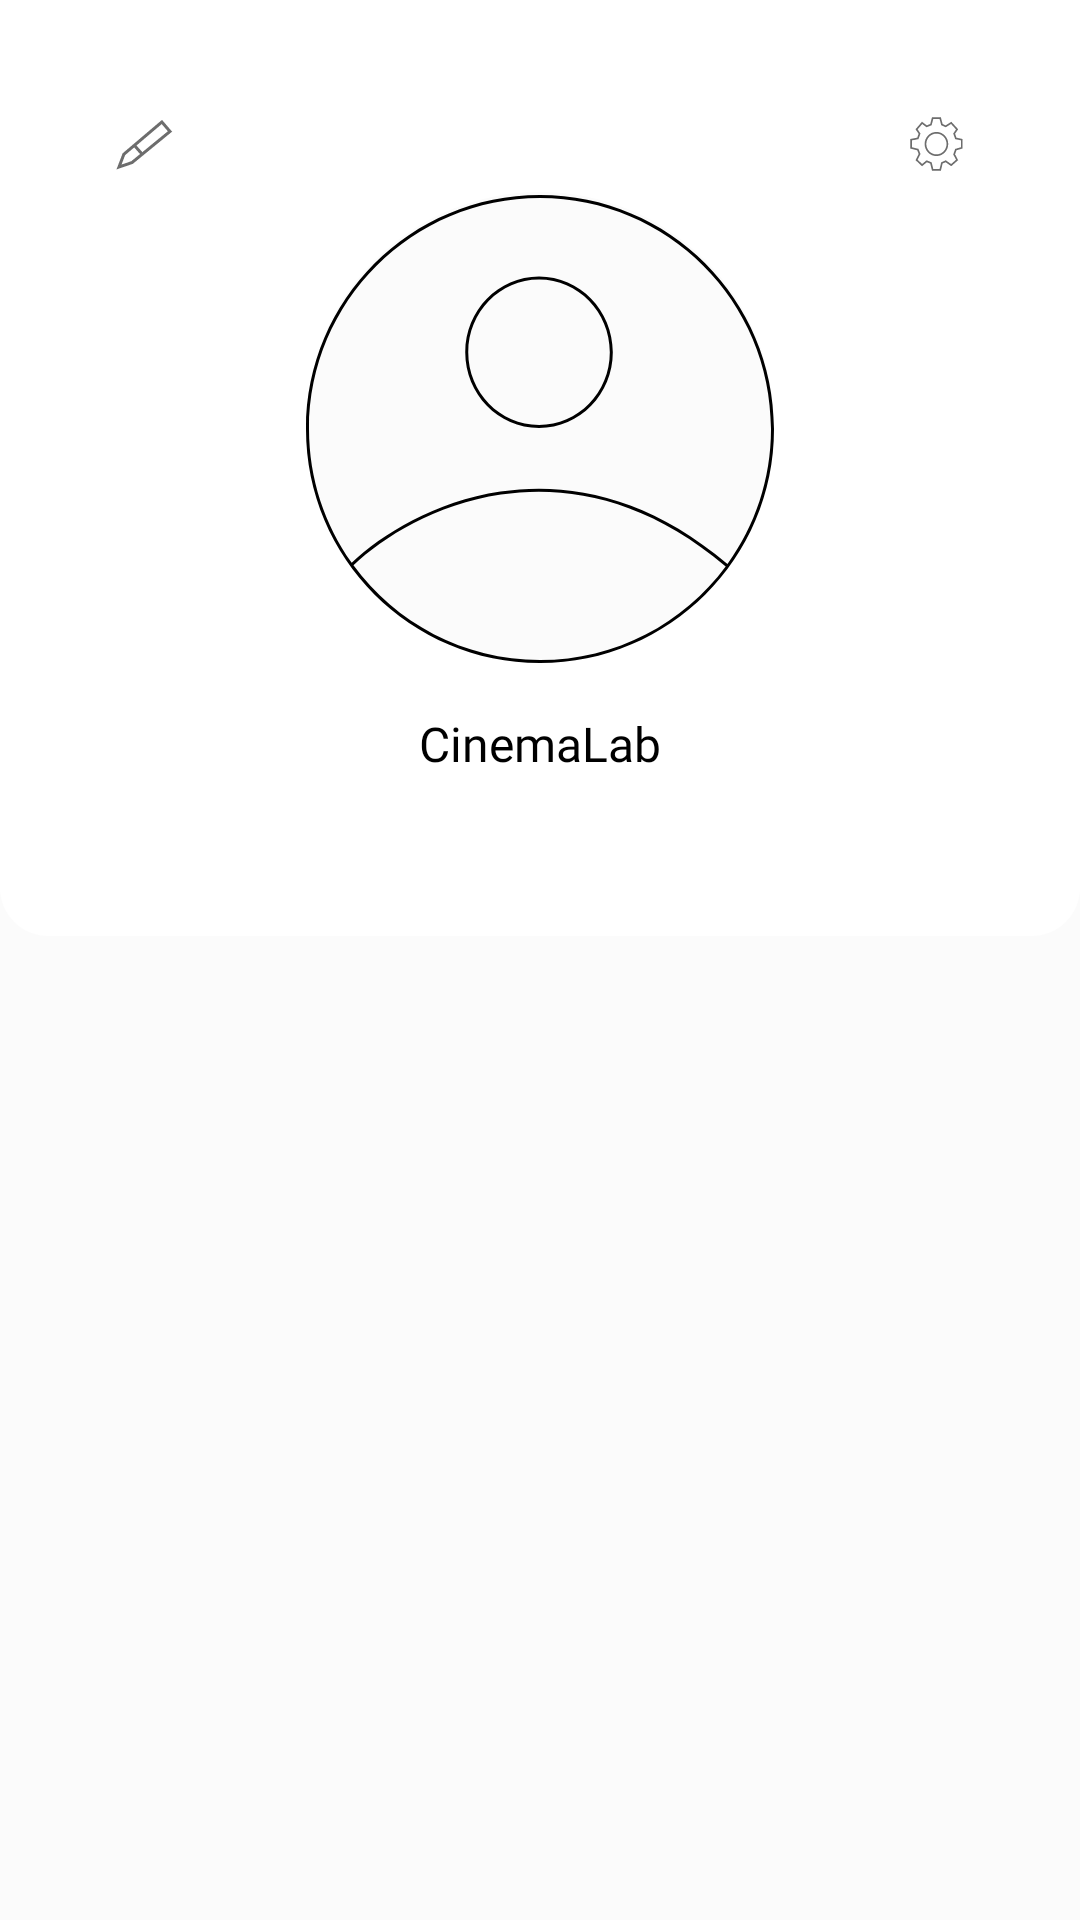

Where icons sit on this 1080px x 1920px app screen, as (x1, y1, x2, y2):
edit profile: (116, 120, 172, 170)
settings profile: (910, 117, 963, 171)
